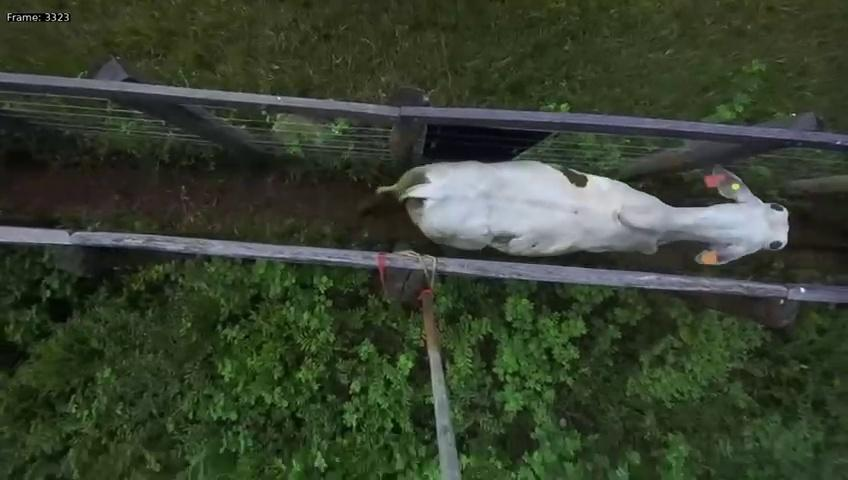cattle: (377, 146, 819, 274)
